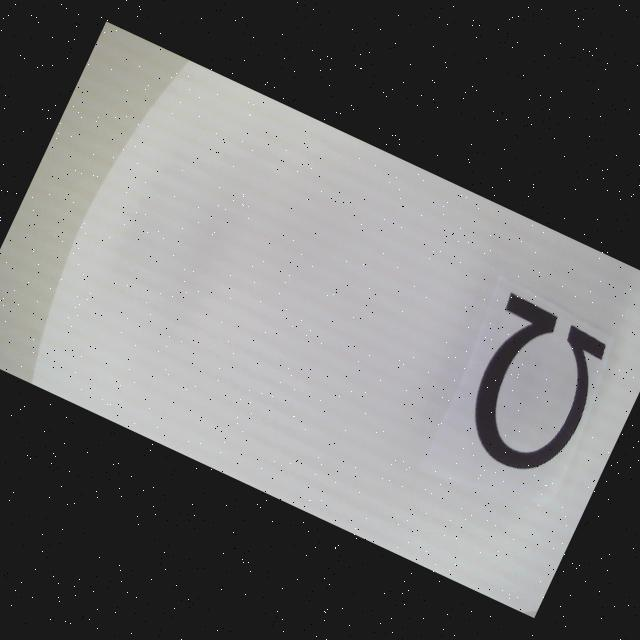OMEGA: (444, 293, 617, 487)
